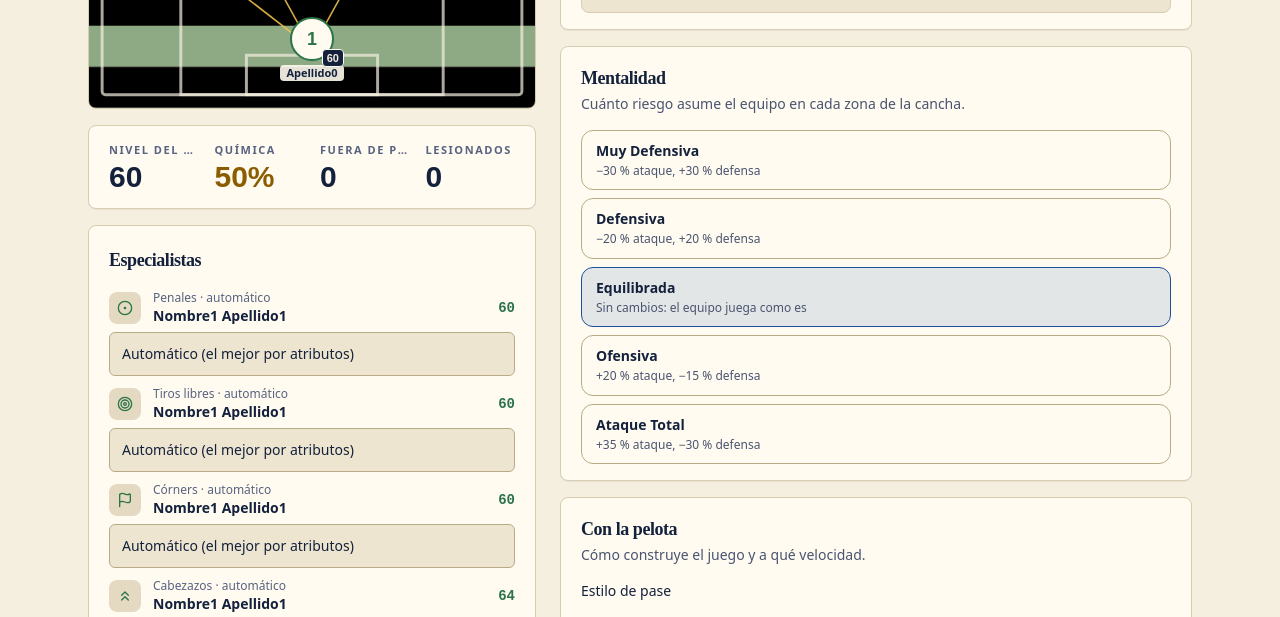
Test: pizarra con alineación libre › el DT puede fijar a mano un especialista, se guarda y se recupera
(page scrolled)
Step 1. Select "Nombre5 Apellido5 · 60" in the dropdown named "Especialista de penales" → (312, 354), box 109,332 -> 515,376
(page scrolled)
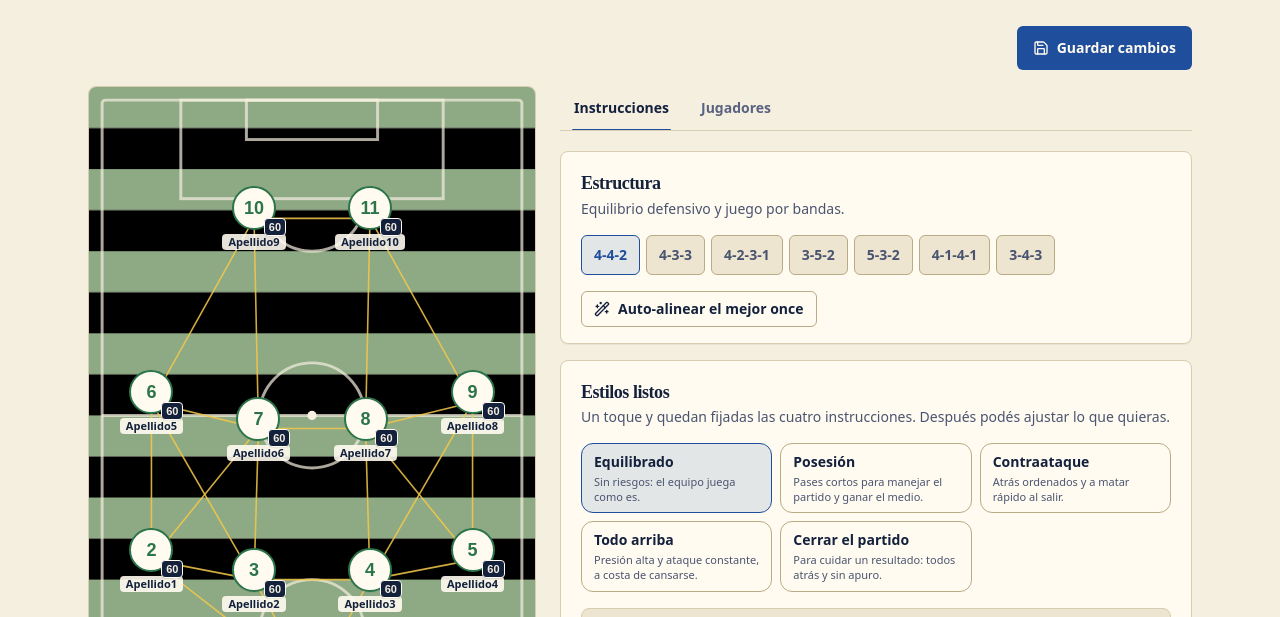
Step 2. Click the button "Guardar cambios" → click(1104, 48), box 1017,26 -> 1192,70
(page scrolled)
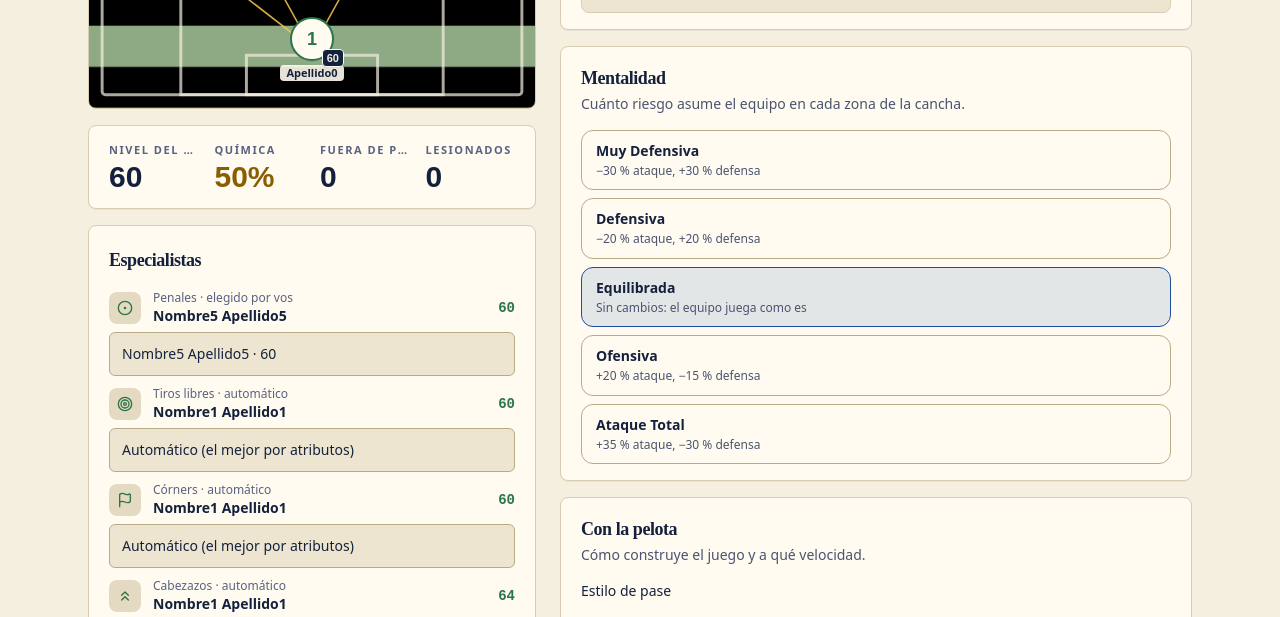
// Al volver a "Automático" ya no queda nada guardado
Step 3. Select "Automático (el mejor por atributos)" in the dropdown named "Especialista de penales" → (312, 354), box 109,332 -> 515,376
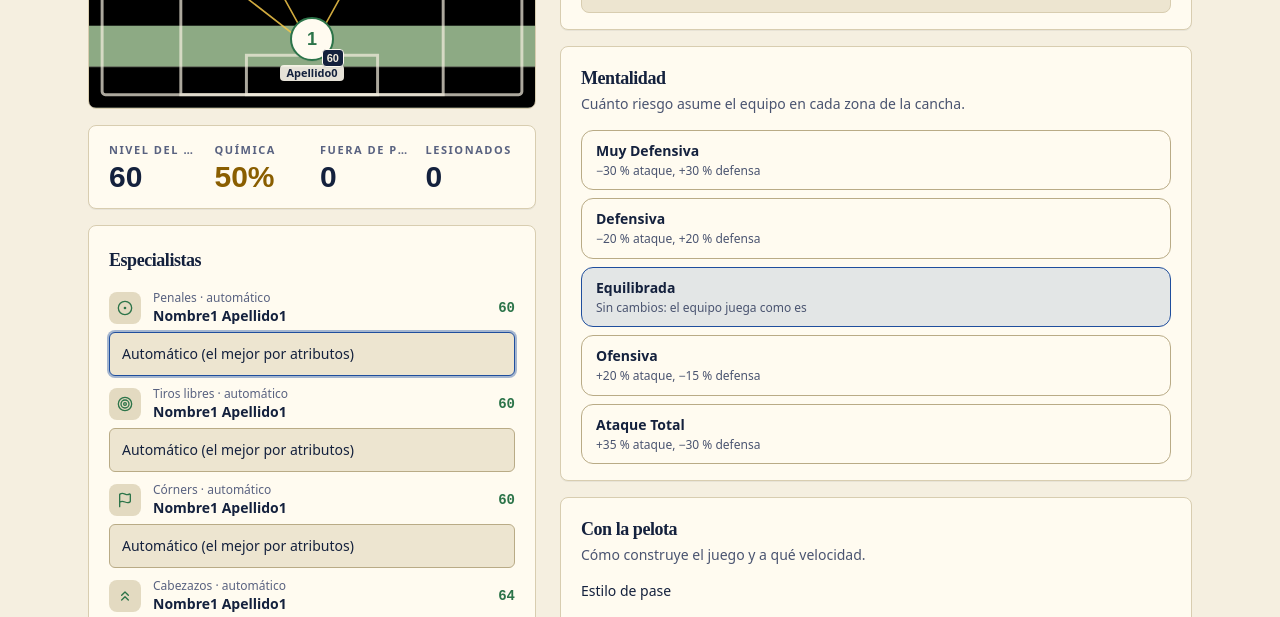
Check: the text "Penales · automático" is shown, box 153,289 -> 270,306
